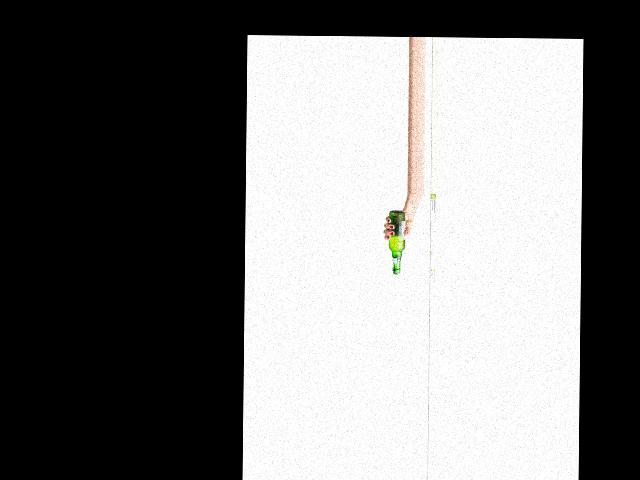beer: (388, 210, 406, 275)
